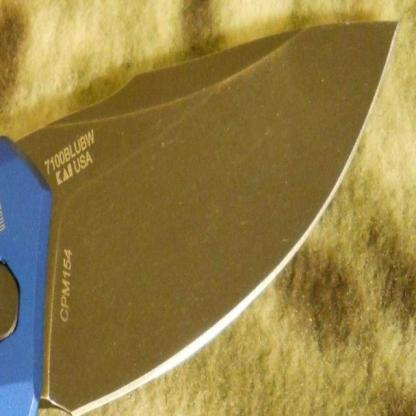Knife: (1, 19, 408, 403)
